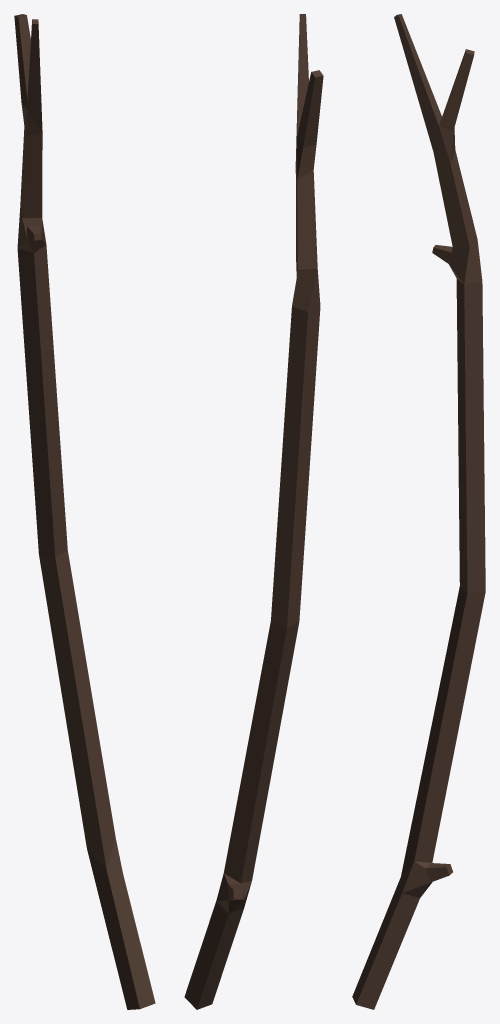
File: stick_03_long.fbx
The picture shows the model from 3 angles, left to right: view 1: azimuth 30°, elevation 25°; view 2: azimuth 210°, elevation 25°; view 3: azimuth 270°, elevation 25°; orthographic projection. The views are drawn at different scales.
Visible parts, largest first — view 1: Cube; view 2: Cube; view 3: Cube.
Part boxes in pixels (x1,y1,x2,y2): Cube: (14, 14, 155, 1009); Cube: (184, 14, 323, 1009); Cube: (352, 14, 485, 1009).
Size of the model in its own units: 12.11 by 113 by 14.4.
